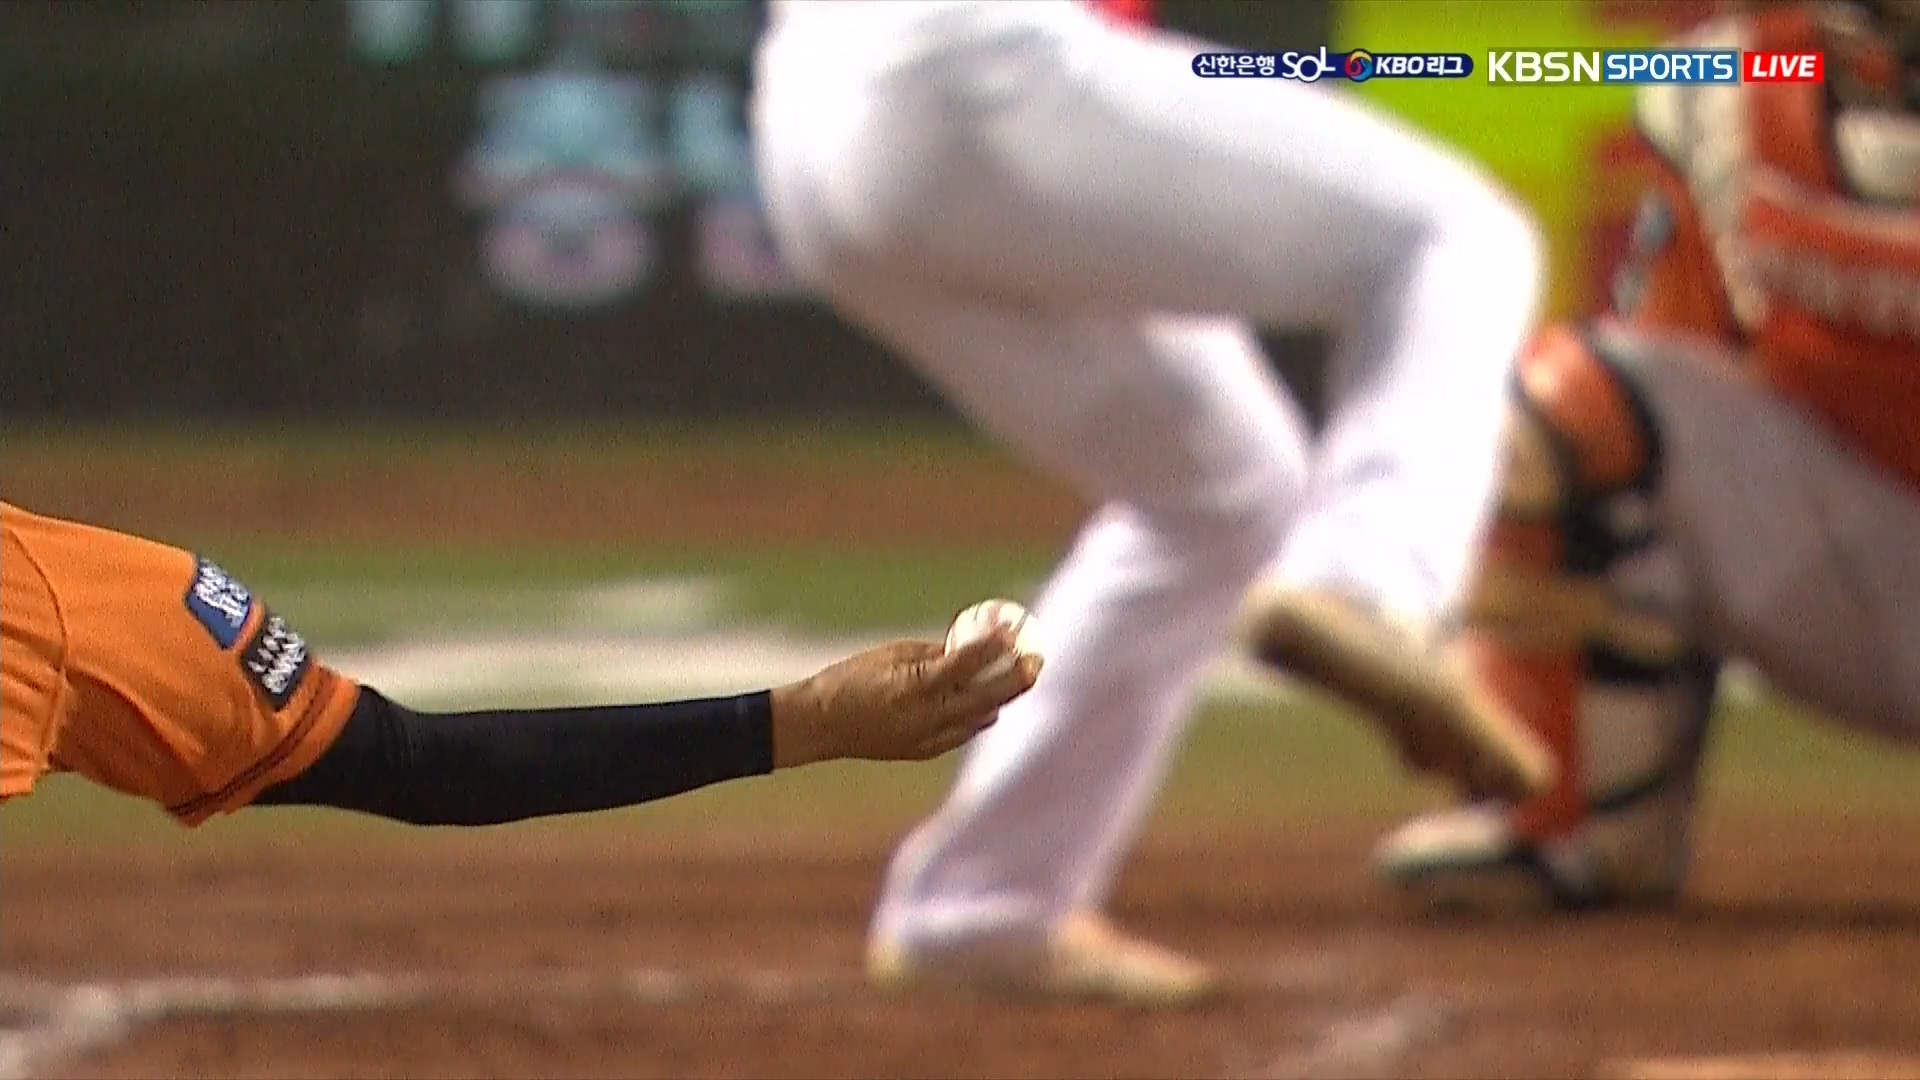zoomin_hand: (364, 576, 1073, 839)
